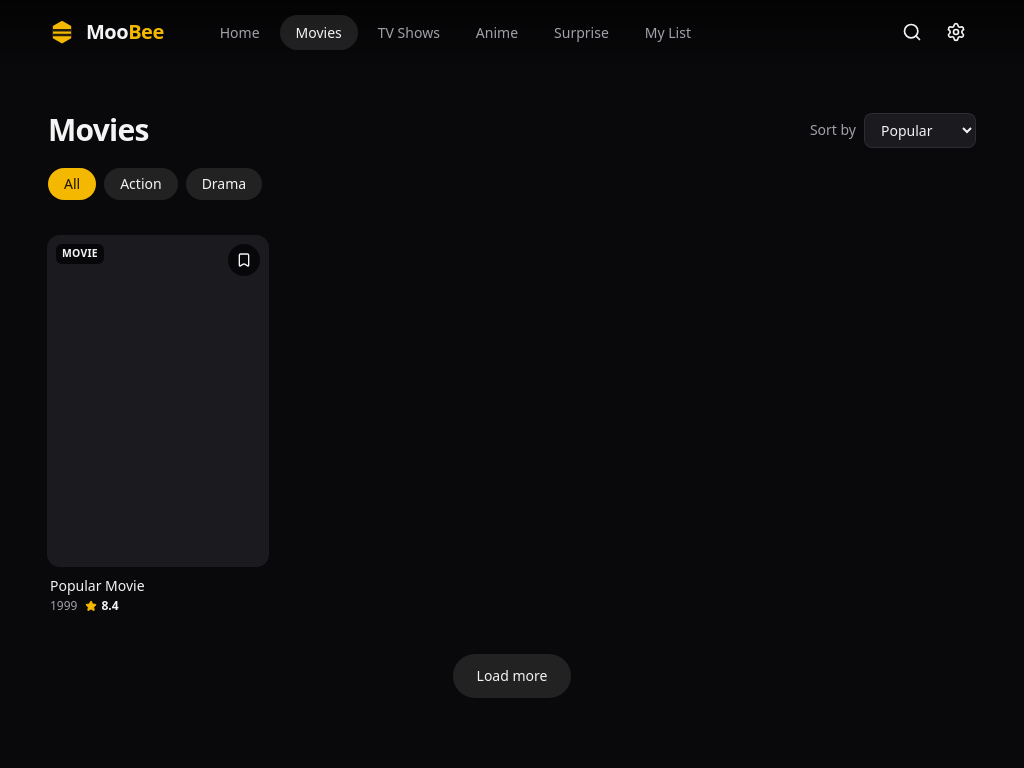
Test case: Movies browse page › refetches when a genre pill is clicked, and reflects it in the URL
Expected: the heading "Popular Movie" is shown, [50, 576, 145, 595]
Click the button "Action": click(141, 184) [104, 168, 178, 200]
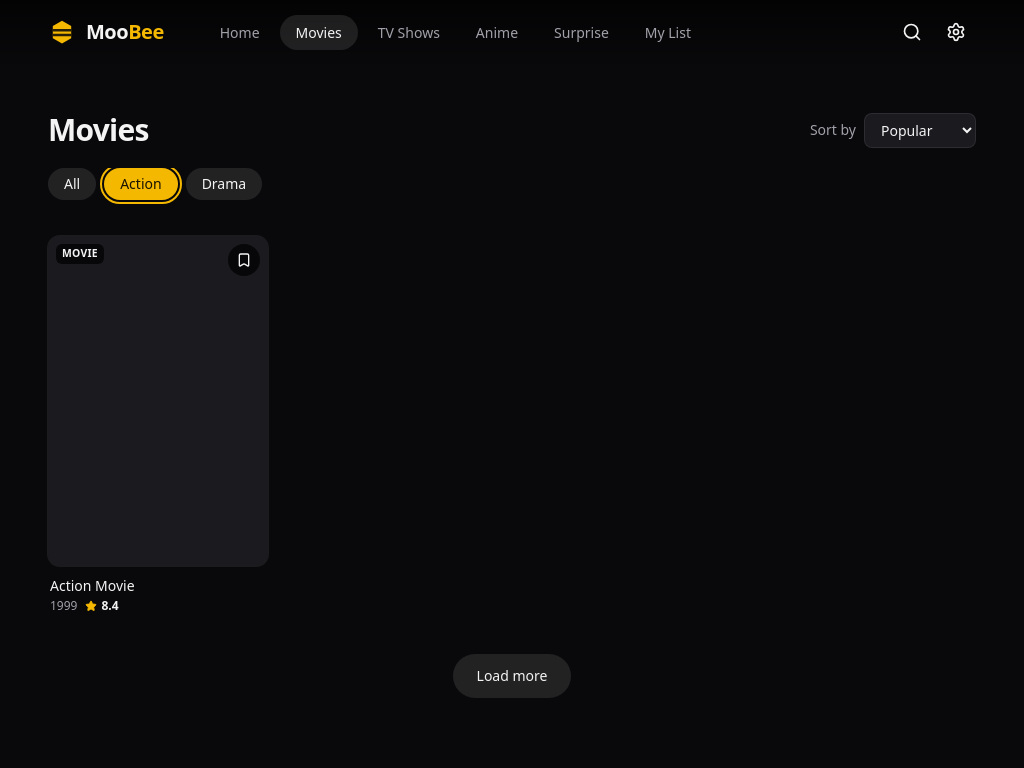
Expected: the heading "Action Movie" is shown, [50, 576, 135, 595]
Expected: the link "Popular Movie" is gone
